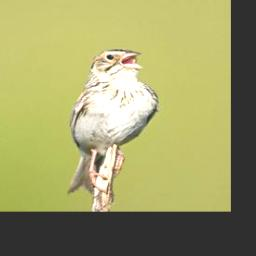Sparrow: (64, 47, 163, 197)
